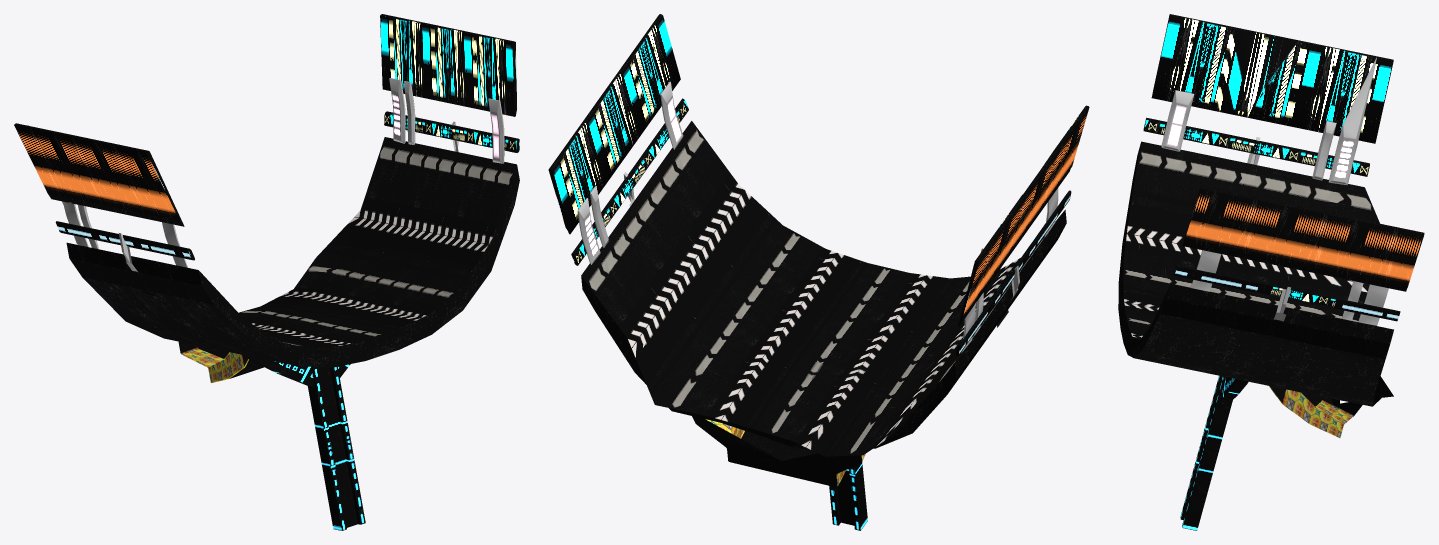
Rendered from TeleportOut.fbx.
The picture shows the model from 3 angles, left to right: view 1: azimuth 30°, elevation 25°; view 2: azimuth 150°, elevation 25°; view 3: azimuth 270°, elevation 25°; orthographic projection. The views are drawn at different scales.
Visible parts, largest first — view 1: AfterLotteryRoad; view 2: AfterLotteryRoad; view 3: AfterLotteryRoad.
Part boxes in pixels (<box>): AfterLotteryRoad: <box>14,14,519,530</box>; AfterLotteryRoad: <box>548,14,1089,530</box>; AfterLotteryRoad: <box>1118,14,1424,530</box>.
Size of the model in its own units: 3843 by 4040 by 2681.
